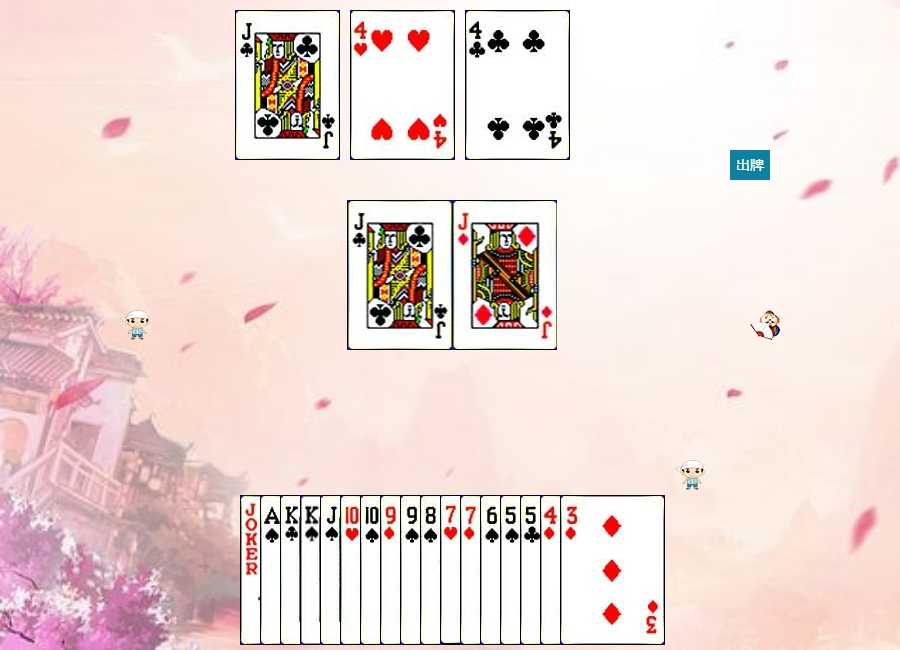10~3: (340, 495, 445, 645)
10~4: (360, 495, 465, 645)
11~1: (453, 200, 558, 350)
11~2: (235, 10, 340, 160), (348, 200, 453, 350)
11~4: (320, 495, 425, 645)
13~2: (280, 495, 385, 645)
13~4: (300, 495, 405, 645)
14~4: (260, 495, 365, 645)
18~4: (240, 495, 345, 645)
3~1: (560, 495, 665, 645)
4~1: (540, 495, 645, 645)
4~2: (465, 10, 570, 160)
4~3: (350, 10, 455, 160)
5~2: (520, 495, 625, 645)
5~4: (500, 495, 605, 645)
6~4: (480, 495, 585, 645)
7~1: (460, 495, 565, 645)
7~3: (440, 495, 545, 645)
8~4: (420, 495, 525, 645)
9~1: (380, 495, 485, 645)
9~4: (400, 495, 505, 645)
